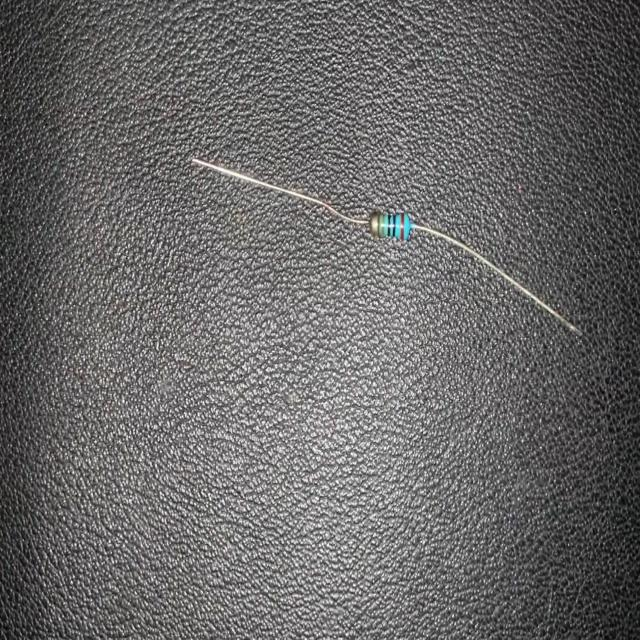faded: (362, 200, 387, 244)
resistor: (188, 151, 586, 345)
